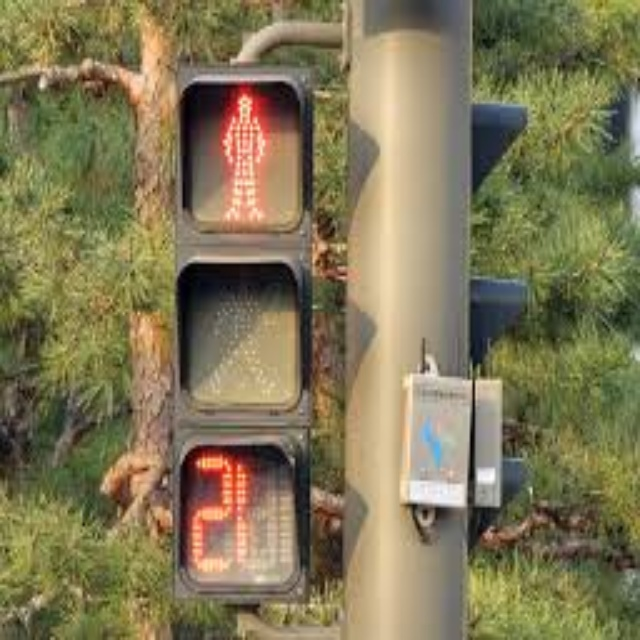red_light: (184, 454, 259, 583), (219, 87, 276, 222)
